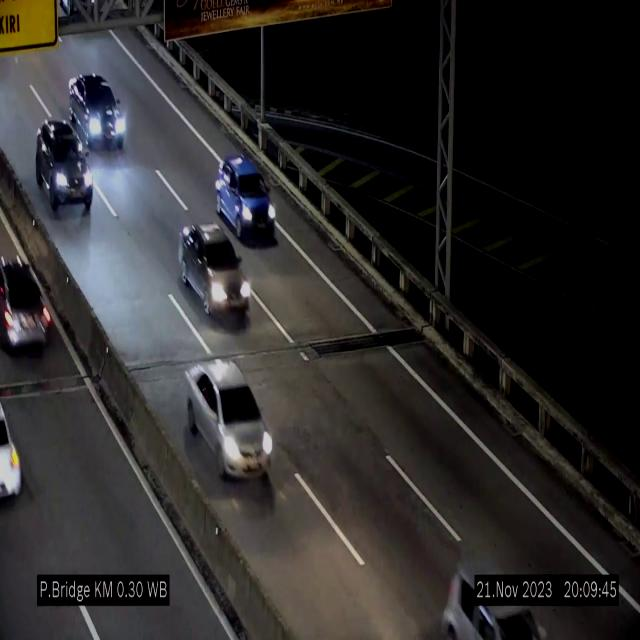Car: (183, 360, 274, 482), (178, 223, 251, 323), (36, 120, 92, 218), (215, 156, 276, 244), (68, 74, 128, 148)
